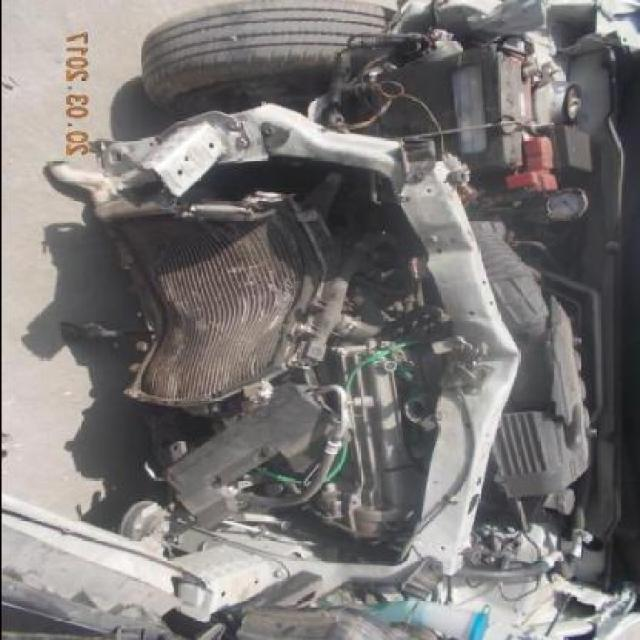damage: (123, 4, 595, 623)
